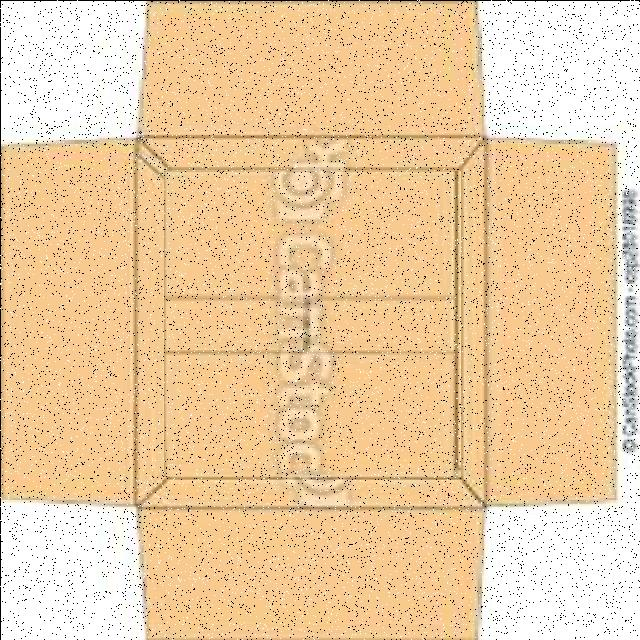normal: (163, 170, 460, 476)
